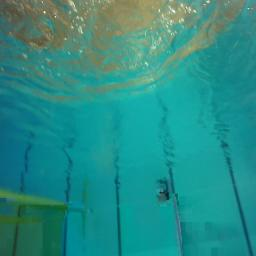Full: (156, 187, 173, 204)
